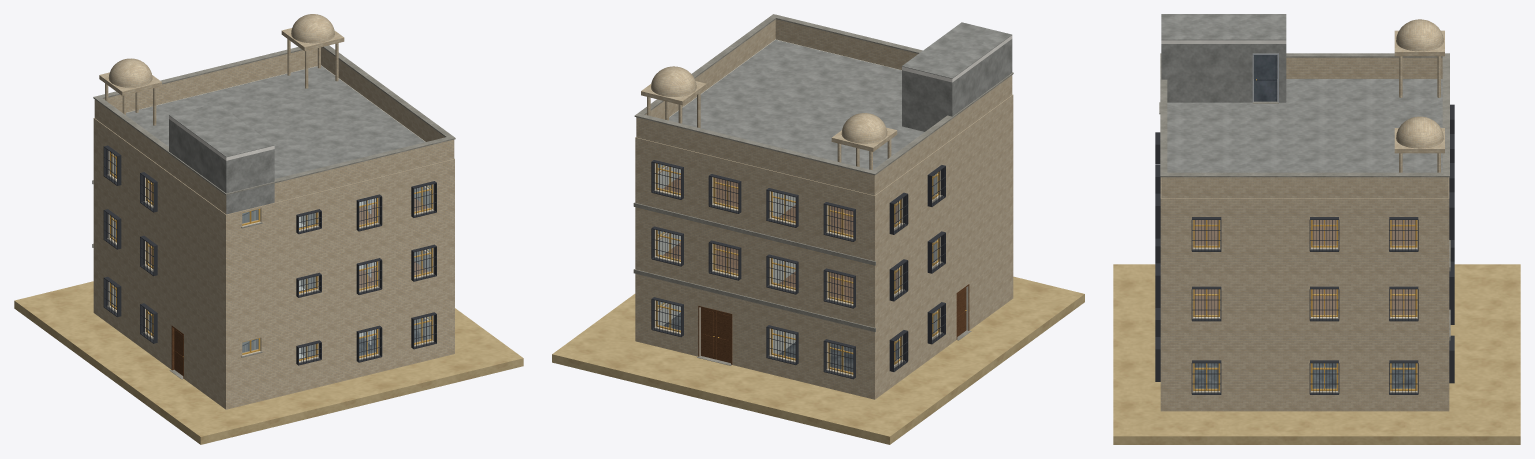
Rendered from b_rajasthan_haveli.gltf.
3 renders of one model, left to right at view 1: azimuth 30°, elevation 25°; view 2: azimuth 150°, elevation 25°; view 3: azimuth 270°, elevation 25°, orthographic. The views are drawn at different scales.
Parts seen in each view (by area): view 1: S_rajasthan_haveli; view 2: S_rajasthan_haveli, D_rajasthan_haveli_F1_S3_Door0, D_rajasthan_haveli_F1_S3_Door1; view 3: S_rajasthan_haveli, D_rajasthan_haveli_PH_W0_Door0.
Boxes of the visible parts, left/top/right/bottom form: S_rajasthan_haveli: left=14, top=14, right=523, bottom=444; S_rajasthan_haveli: left=552, top=14, right=1084, bottom=444; D_rajasthan_haveli_F1_S3_Door0: left=700, top=307, right=716, bottom=359; D_rajasthan_haveli_F1_S3_Door1: left=716, top=311, right=730, bottom=362; S_rajasthan_haveli: left=1113, top=14, right=1520, bottom=444; D_rajasthan_haveli_PH_W0_Door0: left=1254, top=55, right=1277, bottom=101.
Bounding box in the file's own units: 17 × 13.3 × 17.
Materials: 18 (12 with a texture image).
